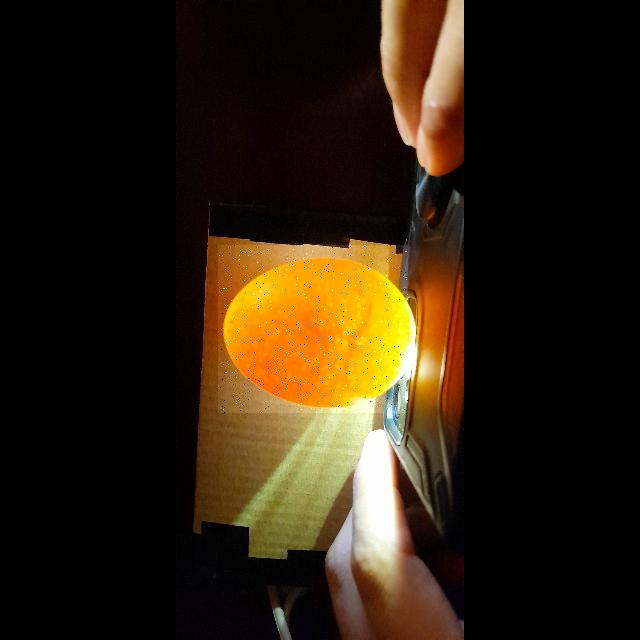Fertile: (218, 245, 408, 413)
